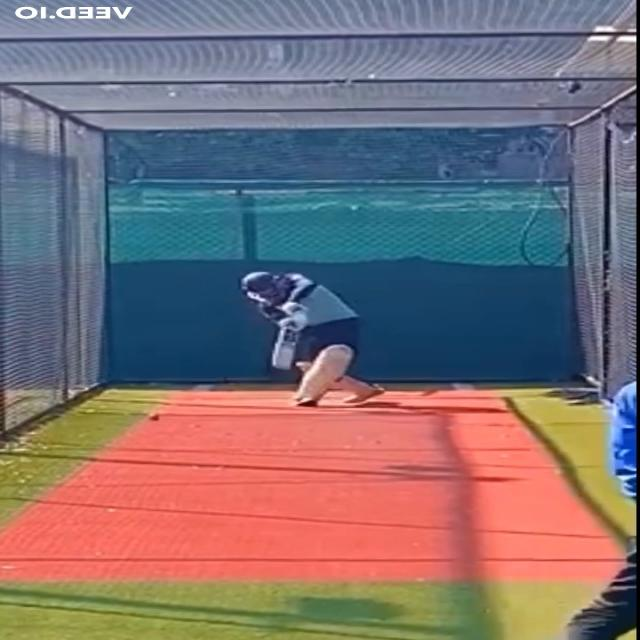ball: (142, 409, 166, 424)
